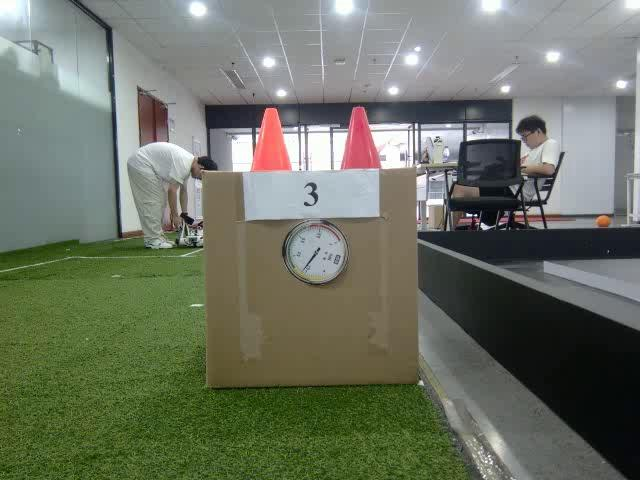3: (303, 181, 320, 208)
Dashboard: (282, 218, 350, 286)
orange_barrel: (248, 106, 294, 172)
red_barrel: (339, 102, 384, 170)
ssi: (334, 253, 342, 265)
